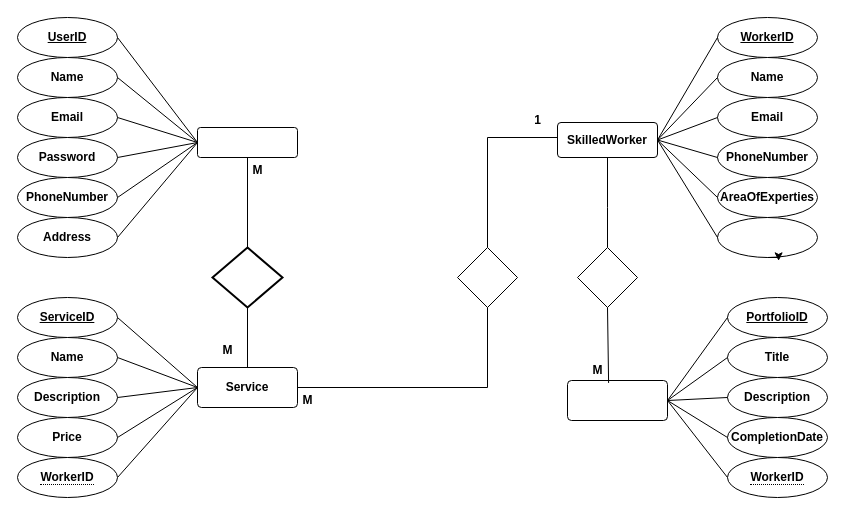
Some shapes in this 845 by 515 pixel diagram are drawn without their labels. Each missing label, with the centre of its shape:
"has" goes at pixel 607 277.
"offers" goes at pixel 487 277.
"Portfolio" goes at pixel 617 400.
"request" goes at pixel 247 277.
"ServiceCharge" goes at pixel 767 237.
"User" goes at pixel 247 142.
